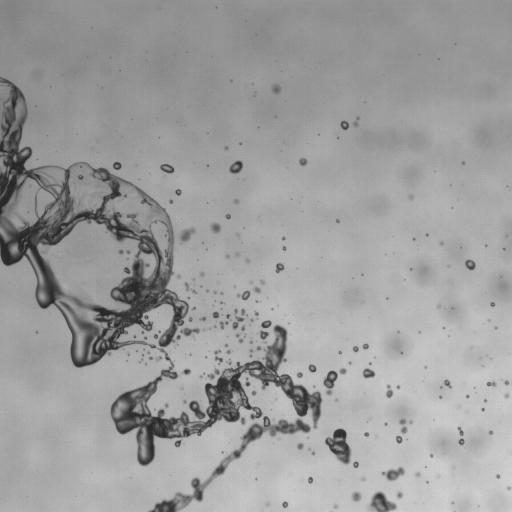droplet: (325, 428, 351, 465), (366, 491, 396, 511), (382, 466, 404, 481), (179, 227, 195, 242), (229, 160, 243, 173), (213, 349, 223, 363), (237, 290, 250, 300), (160, 164, 174, 173), (210, 222, 221, 233), (363, 368, 375, 378), (465, 259, 475, 270), (386, 384, 393, 397), (271, 84, 281, 93), (275, 262, 284, 272), (351, 492, 361, 501), (340, 121, 348, 130), (113, 161, 121, 170), (212, 311, 220, 319), (308, 364, 316, 372), (443, 379, 451, 387), (299, 158, 307, 165), (77, 173, 84, 180), (296, 442, 303, 449), (396, 435, 402, 443), (487, 381, 496, 386), (253, 286, 260, 292), (296, 372, 303, 378), (396, 491, 402, 498), (175, 189, 181, 195), (362, 343, 368, 349), (408, 194, 413, 200), (226, 349, 232, 354), (504, 380, 510, 385), (353, 461, 358, 467), (414, 472, 420, 477), (308, 477, 313, 483), (282, 501, 287, 507), (225, 214, 230, 219), (200, 316, 205, 321), (353, 346, 358, 351), (251, 390, 256, 395), (504, 393, 509, 398), (254, 311, 258, 317), (249, 349, 253, 355), (260, 279, 264, 284), (490, 302, 495, 306), (364, 432, 369, 436), (310, 450, 315, 454), (333, 504, 338, 508), (234, 199, 238, 203), (282, 246, 286, 250), (245, 258, 249, 262), (200, 272, 204, 276), (188, 317, 192, 321), (489, 430, 493, 434), (496, 474, 500, 478), (361, 477, 365, 481), (507, 486, 511, 490), (169, 199, 172, 203), (226, 254, 229, 258), (176, 275, 180, 278), (437, 304, 440, 308), (250, 318, 253, 322), (212, 325, 216, 328), (250, 339, 253, 343), (224, 344, 228, 347), (396, 385, 400, 388), (429, 454, 433, 457), (225, 146, 228, 149), (282, 237, 285, 240), (235, 253, 238, 256), (213, 290, 216, 293), (462, 161, 464, 164), (336, 220, 339, 222), (440, 242, 443, 244), (126, 257, 128, 260), (338, 351, 341, 353), (399, 351, 402, 353), (466, 395, 469, 397), (484, 399, 486, 402), (183, 400, 185, 403), (409, 421, 412, 423), (384, 423, 387, 425), (236, 233, 238, 235), (412, 238, 414, 240), (206, 289, 208, 291), (192, 307, 194, 309), (208, 327, 210, 329), (147, 351, 149, 353), (439, 396, 441, 398), (267, 503, 269, 505)
ligament: (0, 77, 321, 511), (323, 368, 346, 395), (232, 309, 246, 343), (219, 314, 230, 328), (457, 426, 464, 445), (184, 283, 196, 293), (399, 418, 407, 433), (118, 248, 131, 254), (353, 117, 359, 127)
